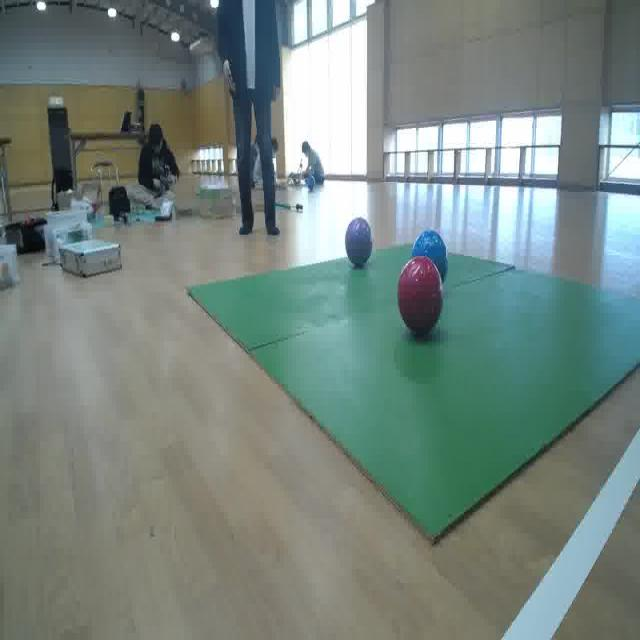blue_ball: (412, 230, 449, 284)
purple_ball: (346, 216, 373, 266)
red_ball: (398, 256, 443, 338)
